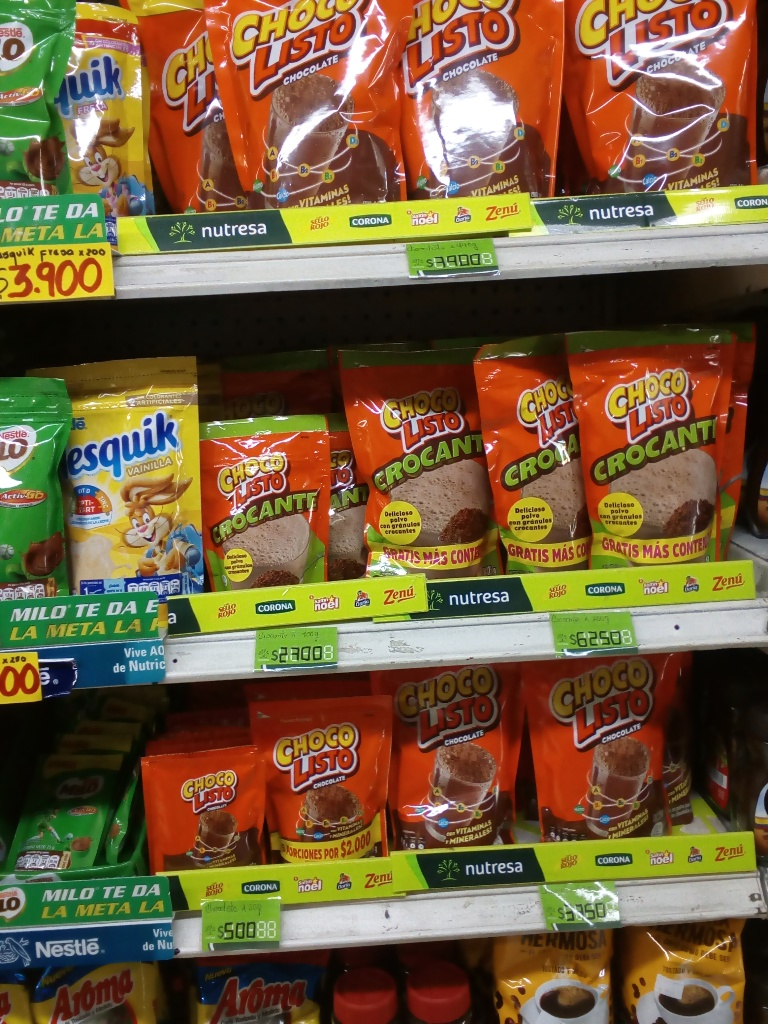COL0170102DYP10000: (205, 414, 334, 588)
COL0170103DYP20000: (370, 671, 529, 846)
COL0170103DYP44000: (562, 0, 756, 186)
COL0170103SOB02000: (139, 745, 260, 873)
COL0170306DYP20000: (29, 360, 206, 596)
